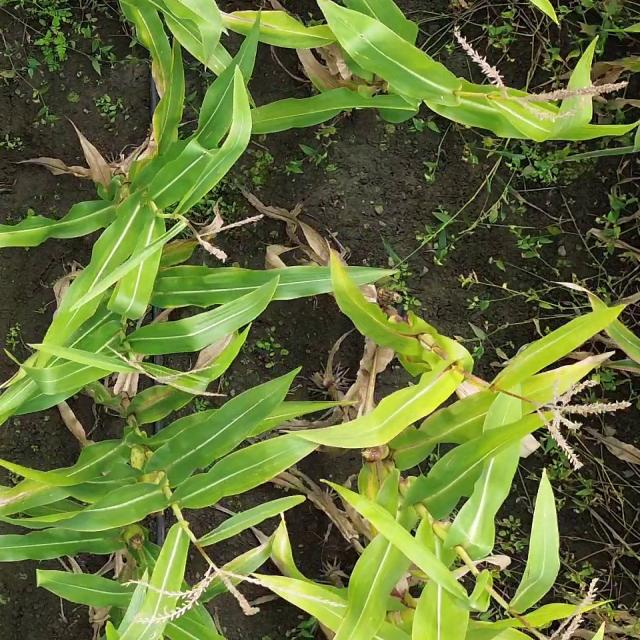gray-leaf-spot: (194, 120, 237, 188)
northern-leaf-blight: (192, 6, 354, 65), (130, 27, 186, 167), (0, 480, 82, 521)
southern-leaf-blight: (188, 444, 298, 504)
